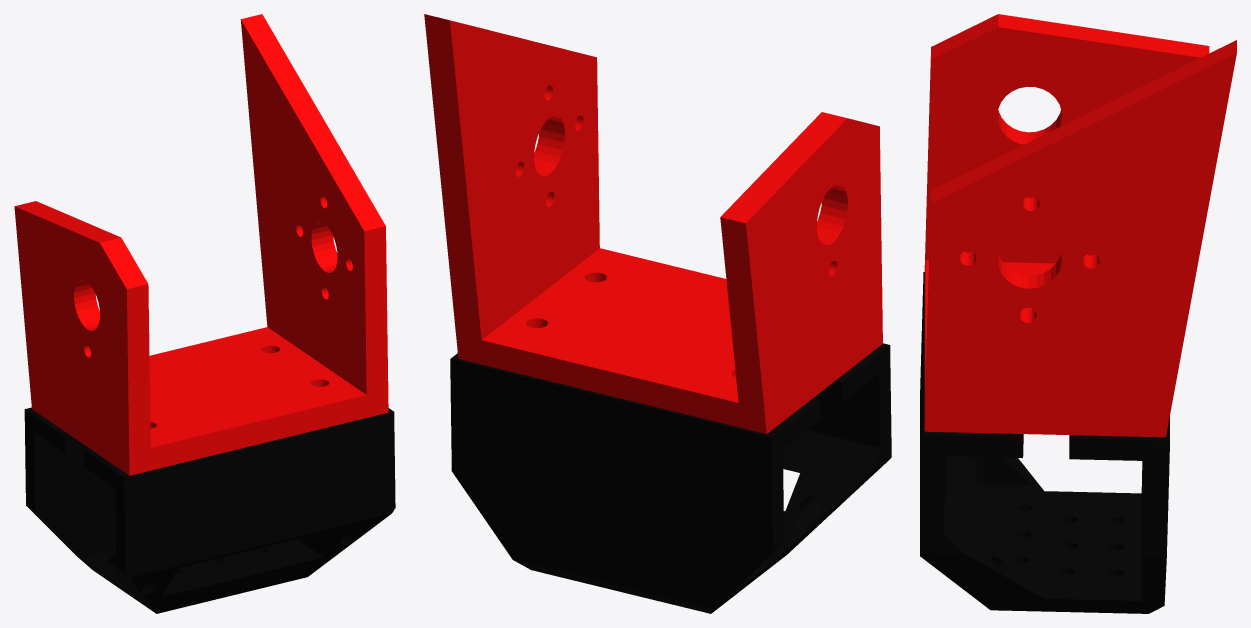
The model's file is Right_forearm.dae.
3 renders of one model, left to right at view 1: azimuth 30°, elevation 25°; view 2: azimuth 150°, elevation 25°; view 3: azimuth 270°, elevation 25°, orthographic. The views are drawn at different scales.
Parts seen in each view (by area): view 1: right_forearm; view 2: right_forearm; view 3: right_forearm.
Part boxes in pixels (x1,y1,x2,y2): right_forearm: (14,14,395,613); right_forearm: (424,14,891,613); right_forearm: (920,14,1236,613).
Bounding box in the file's own units: 0.05 × 0.0411 × 0.085.
